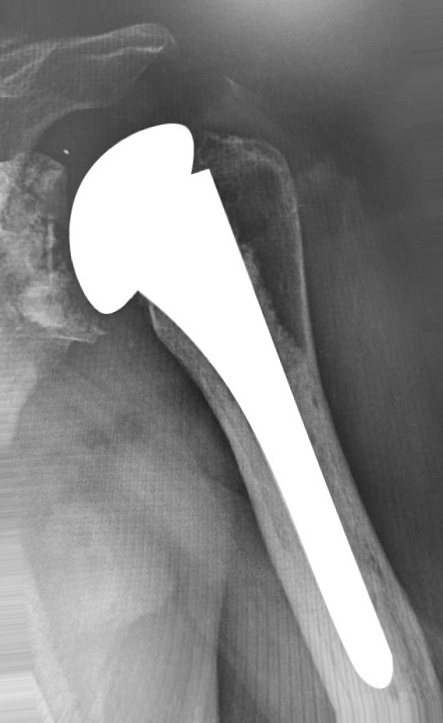Shoulder - Anotomical - Stryker: (53, 119, 269, 316)
